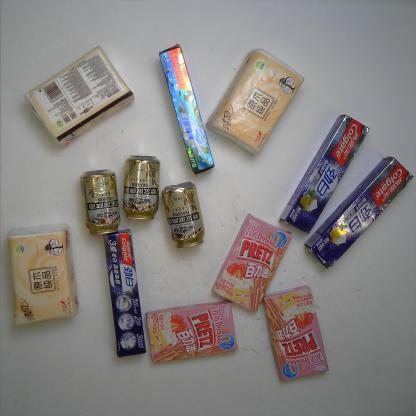Alcohol: (158, 184, 214, 250), (77, 166, 128, 237), (122, 153, 162, 223)
Dessert: (208, 210, 293, 314), (263, 284, 330, 383), (145, 298, 238, 364)
Personal Hygiene: (298, 152, 414, 271), (278, 110, 372, 239), (157, 43, 217, 176), (99, 227, 153, 357)
Tissue: (23, 44, 138, 148), (204, 46, 307, 156), (7, 223, 82, 333)
